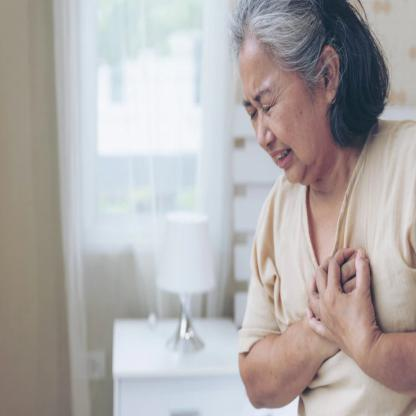pain: (240, 85, 282, 123)
